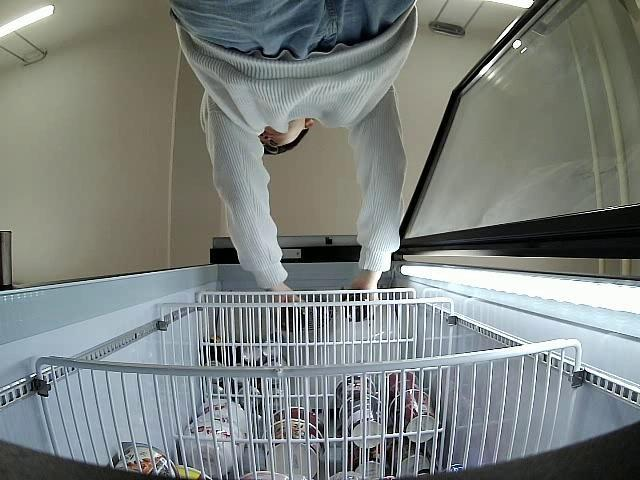19_17cha: (344, 294, 368, 322), (277, 306, 304, 330)
